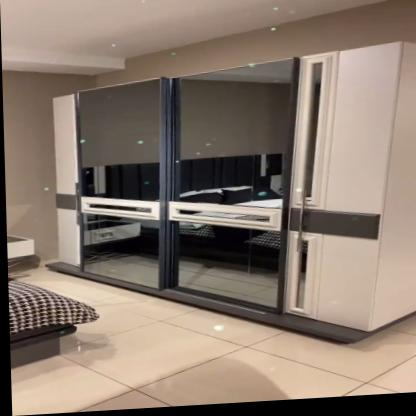Ceramic floor: (9, 263, 416, 416)
Closet: (48, 48, 403, 348)
